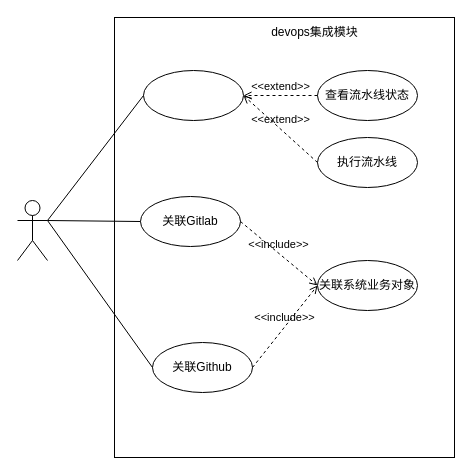
The diagram is 472 pixels wide and 475 high, and some of its shapes have lost their labels. Each missing label, with the box of its shape:
关联jenkins: (142, 70, 244, 120)
用户: (16, 200, 48, 260)
